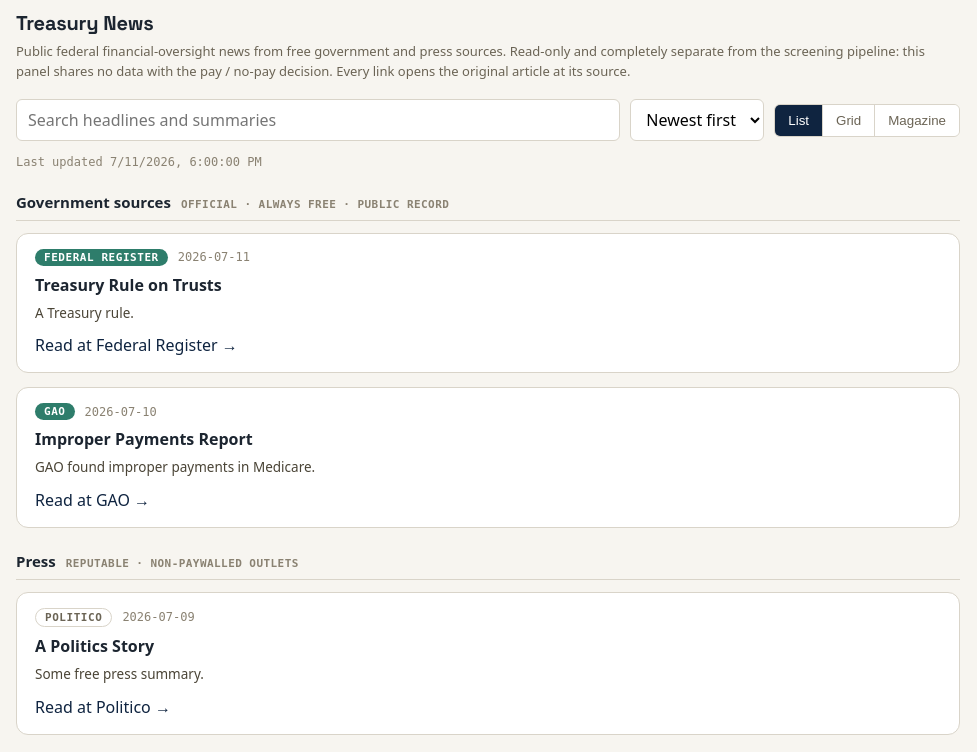
TreasuryNews › a query flattens both tiers into a single Results list with a count
Expected: the heading "Government sources" is shown, [16, 191, 171, 214]
Type "improper payments" into the search field at (318, 120), box [16, 99, 620, 141]
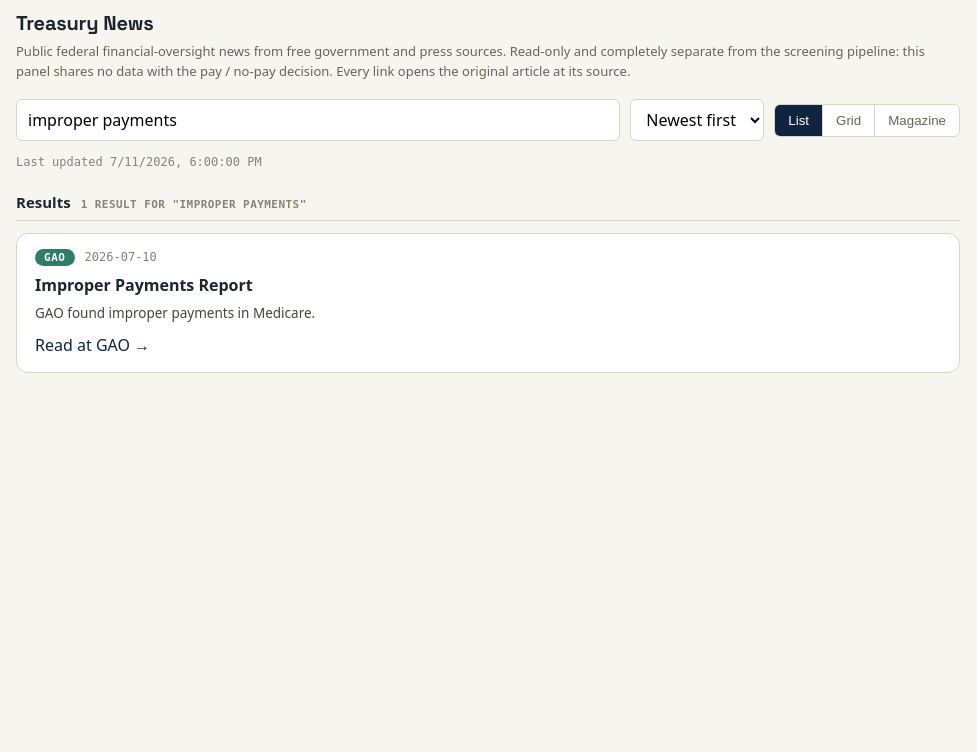
Now the heading "Results" is shown, box [16, 191, 71, 214]
Now the heading "Government sources" is gone
Now the text "1 result for \"improper payments\"" is shown, box [81, 198, 307, 211]
